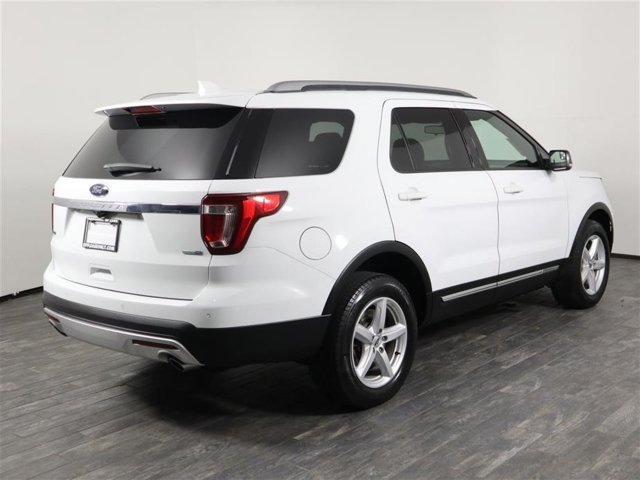Ford Explorer: (42, 81, 613, 409)
